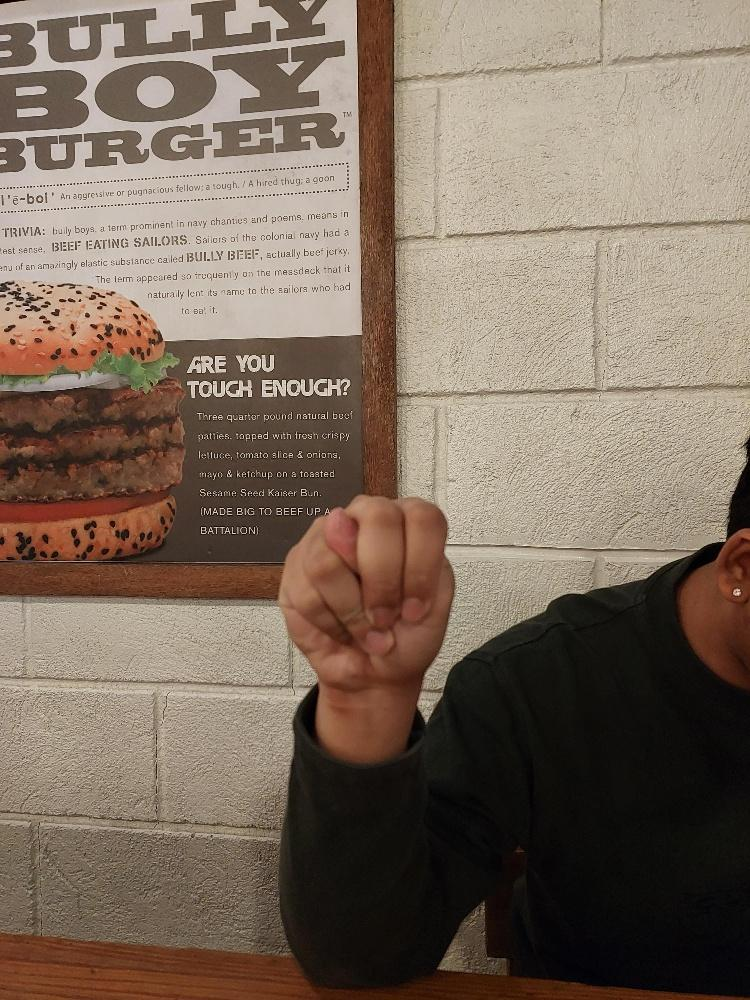n: (275, 488, 459, 685)
